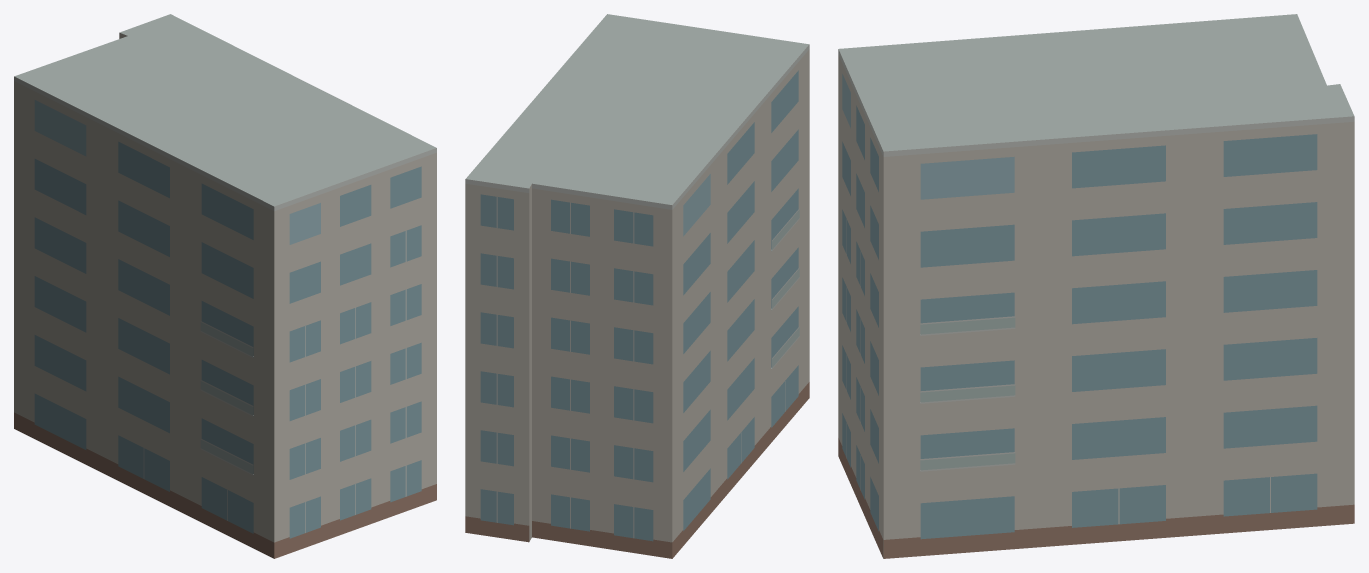
File: survey-upis-32995539.glb
3 renders of one model, left to right at view 1: azimuth 30°, elevation 25°; view 2: azimuth 150°, elevation 25°; view 3: azimuth 270°, elevation 25°, orthographic. The views are drawn at different scales.
Visible parts, largest first — view 1: survey-upis-32995539.tmp; view 2: survey-upis-32995539.tmp; view 3: survey-upis-32995539.tmp.
Boxes of the visible parts, x1,y1,x2,y2 form: survey-upis-32995539.tmp: (14, 14, 436, 558); survey-upis-32995539.tmp: (465, 14, 809, 558); survey-upis-32995539.tmp: (838, 14, 1354, 558).
Bounding box in the file's own units: 13.26 × 18.3 × 21.03.
